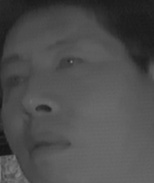eye: (53, 53, 85, 73), (2, 71, 27, 90)
mouth: (22, 129, 71, 160)
